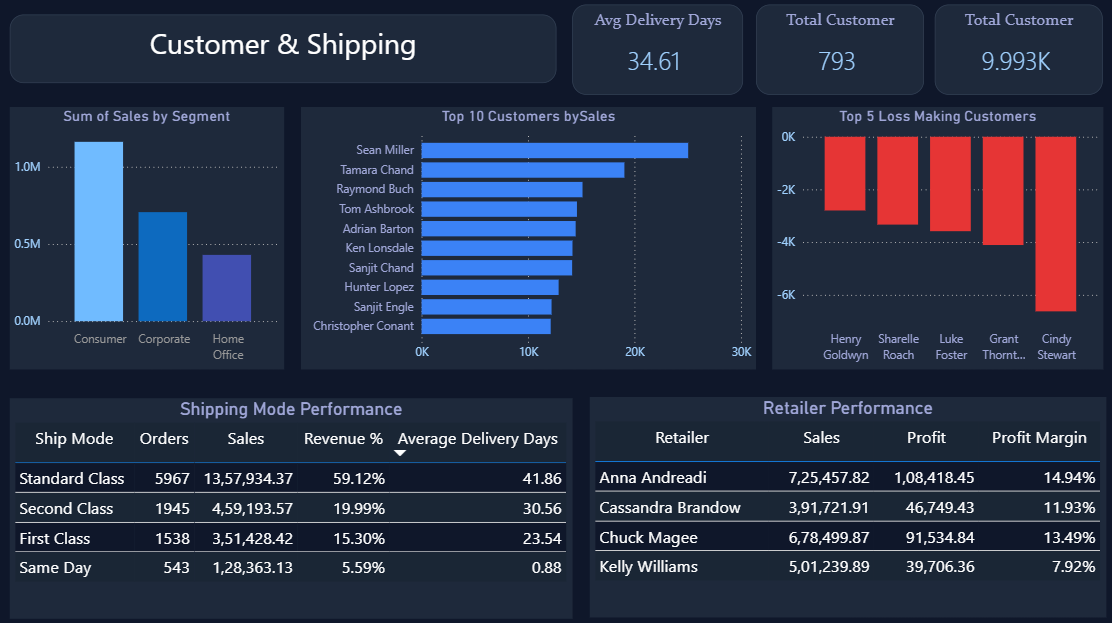

What the dashboard file says about the page in this screenshot:
{"tool":"powerbi","page":{"name":"Customer & shipping","canvas":[1280,720],"ordinal":2},"visuals":[{"type":"cardVisual","title":"Total Customer","fields":{"Data":["CountNonNull(customers_dim2.Customer ID)"]},"box":[868.3,8.3,191.7,103.3],"z":0},{"type":"clusteredBarChart","title":"Top 10 Customers bySales","fields":{"Category":["customers_dim2.Customer Name"],"Y":["Sum(fact_orders__2.Sales)"]},"box":[348.3,125,520,300],"z":1000},{"type":"columnChart","fields":{"Category":["customers_dim2.Segment"],"Y":["Sum(fact_orders__2.Sales)"]},"box":[15,125,313.3,300],"z":2000},{"type":"tableEx","title":"Shipping Mode Performance","fields":{"Values":["fact_orders__2.Ship Mode","fact_orders__2.Order ID","Sum(fact_orders__2.Sales)","Divide(Sum(fact_orders__2.Sales), ScopedEval(Sum(fact_orders__2.Sales), []))","Avg(fact_orders__2.Delivery Days)"]},"box":[15,458.3,643.3,251.7],"z":3000},{"type":"cardVisual","title":"Total Customer","fields":{"Data":["CountNonNull(fact_orders__2.Order ID)"]},"box":[1073.3,8.3,191.7,103.3],"z":4000},{"type":"cardVisual","title":"Avg Delivery Days","fields":{"Data":["Avg(fact_orders__2.Delivery Days)"]},"box":[658.3,8.3,195,103.3],"z":5000},{"type":"textbox","box":[15,20,625,78.3],"z":6000},{"type":"tableEx","title":"Retailer Performance","fields":{"Values":["fact_orders__2.Retail Sales People","Sum(fact_orders__2.Sales)","Sum(fact_orders__2.Profit)","fact_orders__2.Profit Margin"]},"box":[678.3,456.7,590,251.7],"z":7000},{"type":"columnChart","title":"Top 5 Loss Making Customers","fields":{"Category":["customers_dim2.Customer Name"],"Y":["Sum(fact_orders__2.Profit)"]},"box":[886.7,125,378.3,300],"z":8000}]}

Visuals, with their boxes in screenshot pixels (x1, y1, x2, y2), scaled from the page's 1280x720 canvas onto the 1112x623 screenshot:
"Total Customer" cardVisual: crop(754, 7, 921, 97)
"Top 10 Customers bySales" clusteredBarChart: crop(303, 108, 754, 368)
columnChart - customers_dim2.Segment x Sum(fact_orders__2.Sales): crop(13, 108, 285, 368)
"Shipping Mode Performance" tableEx: crop(13, 397, 572, 614)
"Total Customer" cardVisual: crop(932, 7, 1099, 97)
"Avg Delivery Days" cardVisual: crop(572, 7, 741, 97)
textbox: crop(13, 17, 556, 85)
"Retailer Performance" tableEx: crop(589, 395, 1102, 613)
"Top 5 Loss Making Customers" columnChart: crop(770, 108, 1099, 368)
